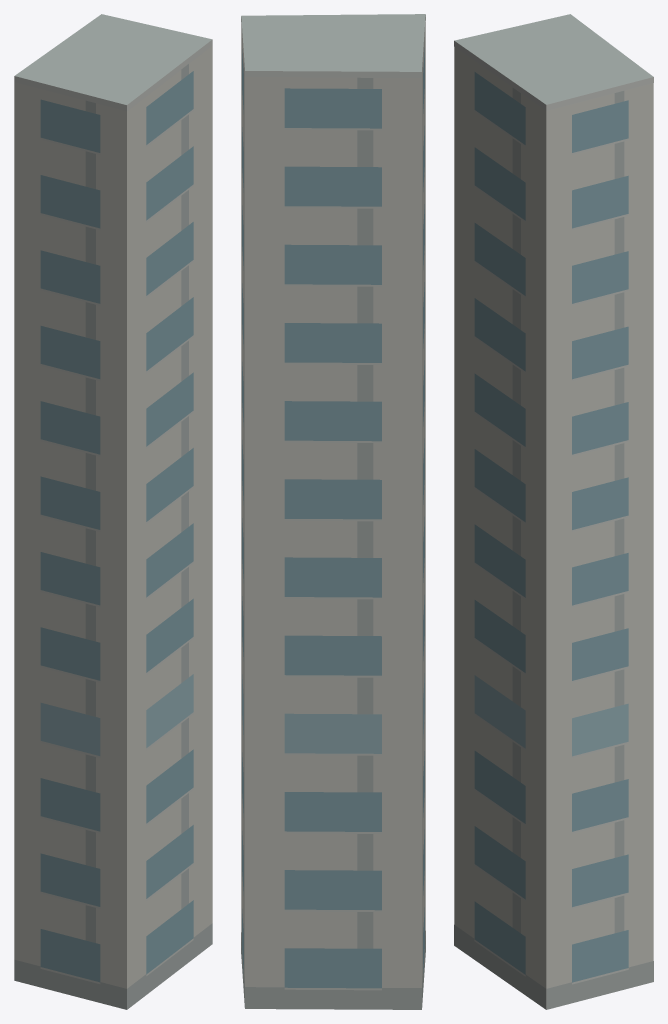
Rendered from survey-upis-32643764.glb.
The picture shows the model from 3 angles, left to right: view 1: azimuth 30°, elevation 25°; view 2: azimuth 150°, elevation 25°; view 3: azimuth 270°, elevation 25°; orthographic projection. The views are drawn at different scales.
Parts seen in each view (by area): view 1: survey-upis-32643764.tmp; view 2: survey-upis-32643764.tmp; view 3: survey-upis-32643764.tmp.
Part boxes in pixels (left/top/right/bottom): survey-upis-32643764.tmp: left=14, top=14, right=212, bottom=1009; survey-upis-32643764.tmp: left=241, top=14, right=425, bottom=1009; survey-upis-32643764.tmp: left=454, top=14, right=653, bottom=1009.
Size of the model in its own units: 7.89 by 36.6 by 7.33.
